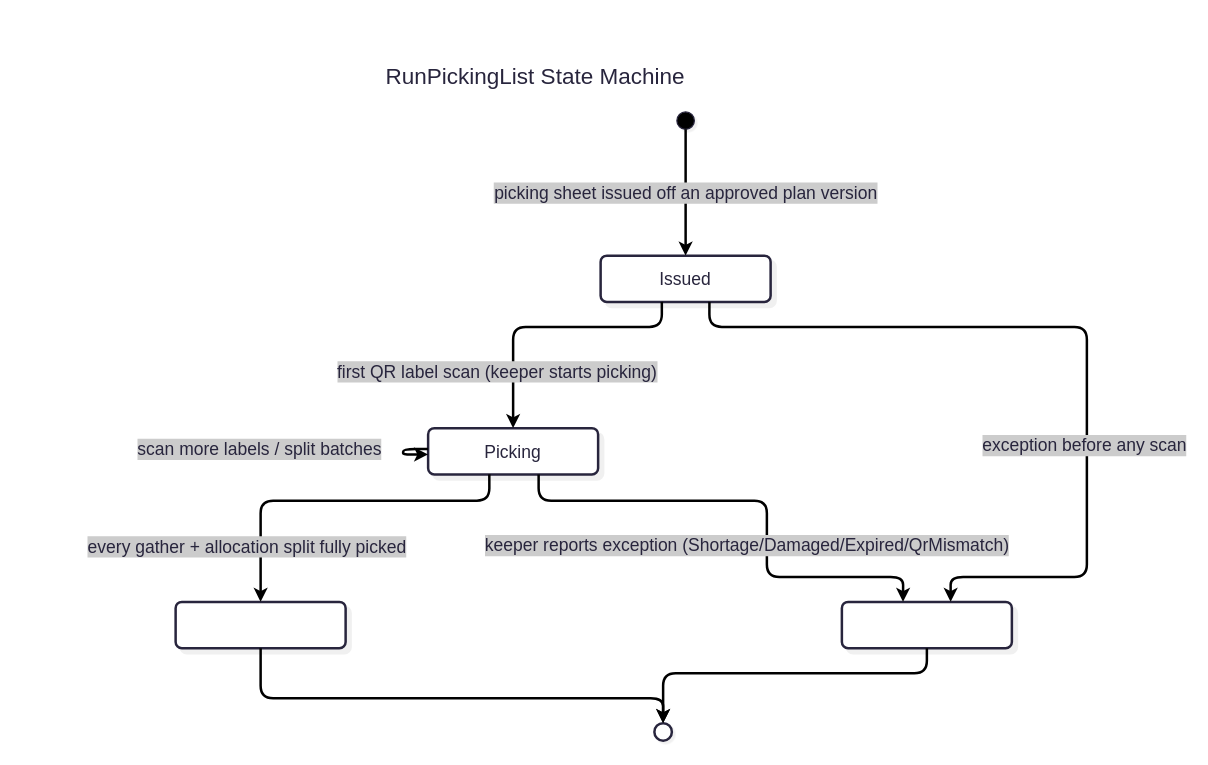
This 1208x765 diagram has some shape labels left out. The shapes that lost their labels are listed below. From the top down, each one's centre as x and y in pixels, then its label:
At point (262, 627): "Ready".
At point (929, 627): "NeedsHandling".
